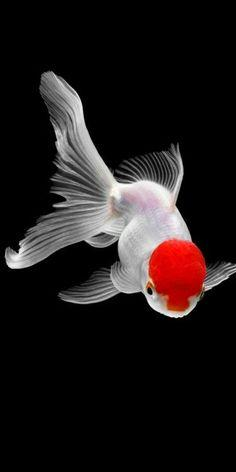goldfish: (46, 153, 223, 332)
